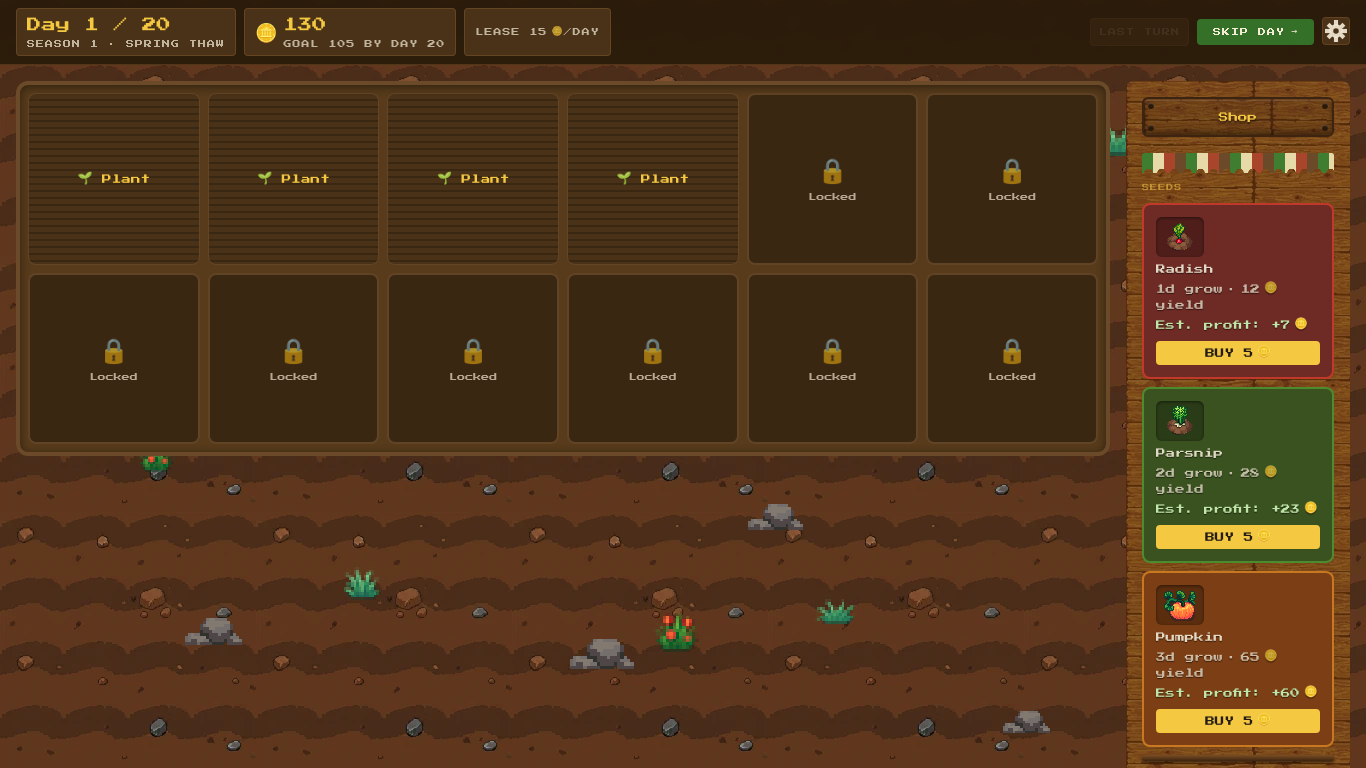
Test case: GameBoard — empty-plot tap feedback (017 FR-014) › guides toward the shop when the player owns no seeds
What coordinates should you click on to do the following:
click the button with aria-label "empty plot 1"
I would click on:
 (114, 179)
Its box is [28, 93, 200, 265].
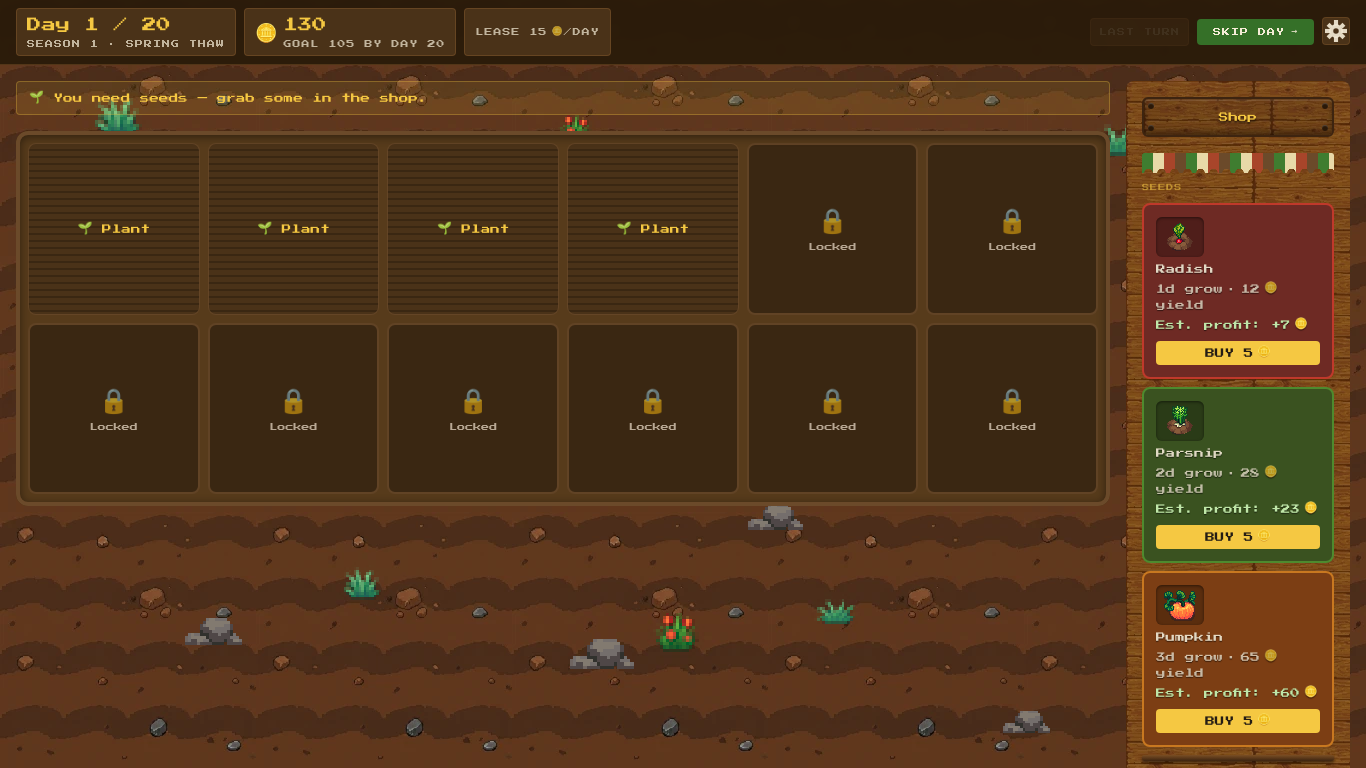
Expected: the message shows "You need seeds — grab some in the shop", [54, 93, 428, 103]
